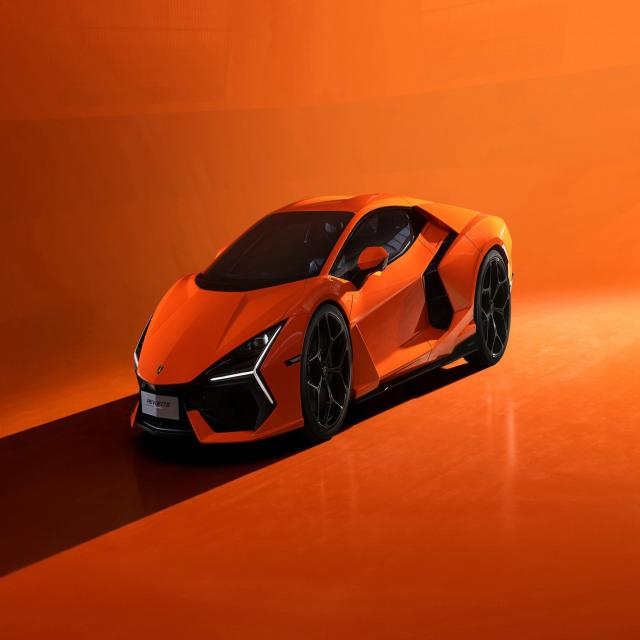car: (132, 167, 526, 482)
